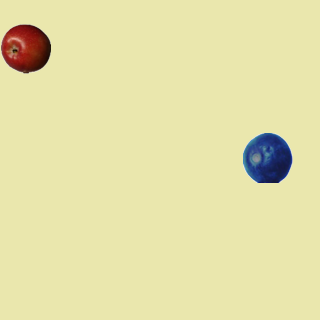Apple Braeburn: (0, 23, 50, 73)
Huckleberry: (242, 132, 292, 182)
